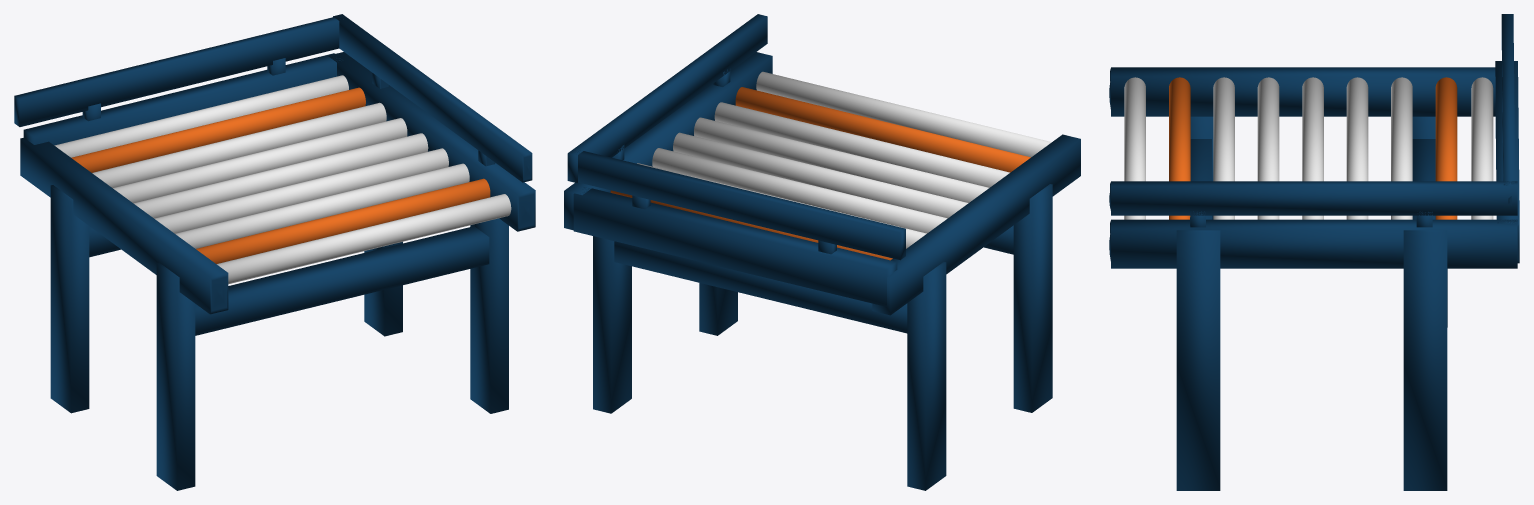
The model's file is conveyors straight 90 Rotation final.glb.
3 renders of one model, left to right at view 1: azimuth 30°, elevation 25°; view 2: azimuth 150°, elevation 25°; view 3: azimuth 270°, elevation 25°, orthographic. The views are drawn at different scales.
Visible parts, largest first — view 1: Cylinder 19.003; view 2: Cylinder 19.003; view 3: Cylinder 19.003.
Part boxes in pixels (left/top/right/bottom): Cylinder 19.003: left=14, top=14, right=535, bottom=490; Cylinder 19.003: left=564, top=14, right=1080, bottom=490; Cylinder 19.003: left=1109, top=14, right=1519, bottom=490.
Bounding box in the file's own units: 8.19 × 6.55 × 8.06.
